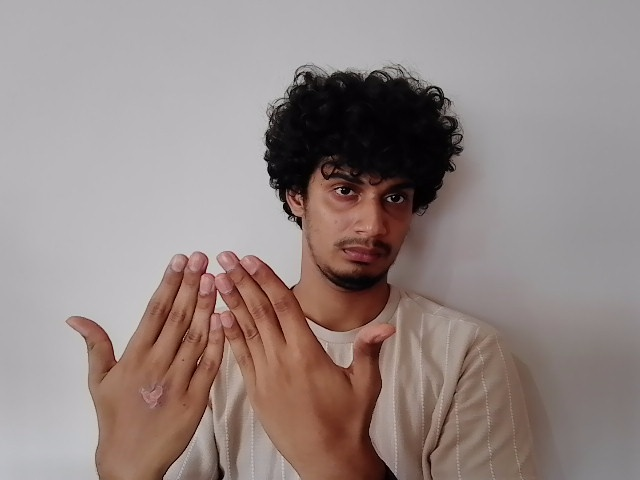thankyou: (59, 245, 395, 463)
